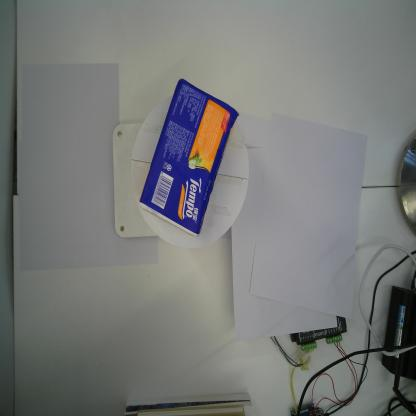Tissue: (136, 75, 240, 238)
